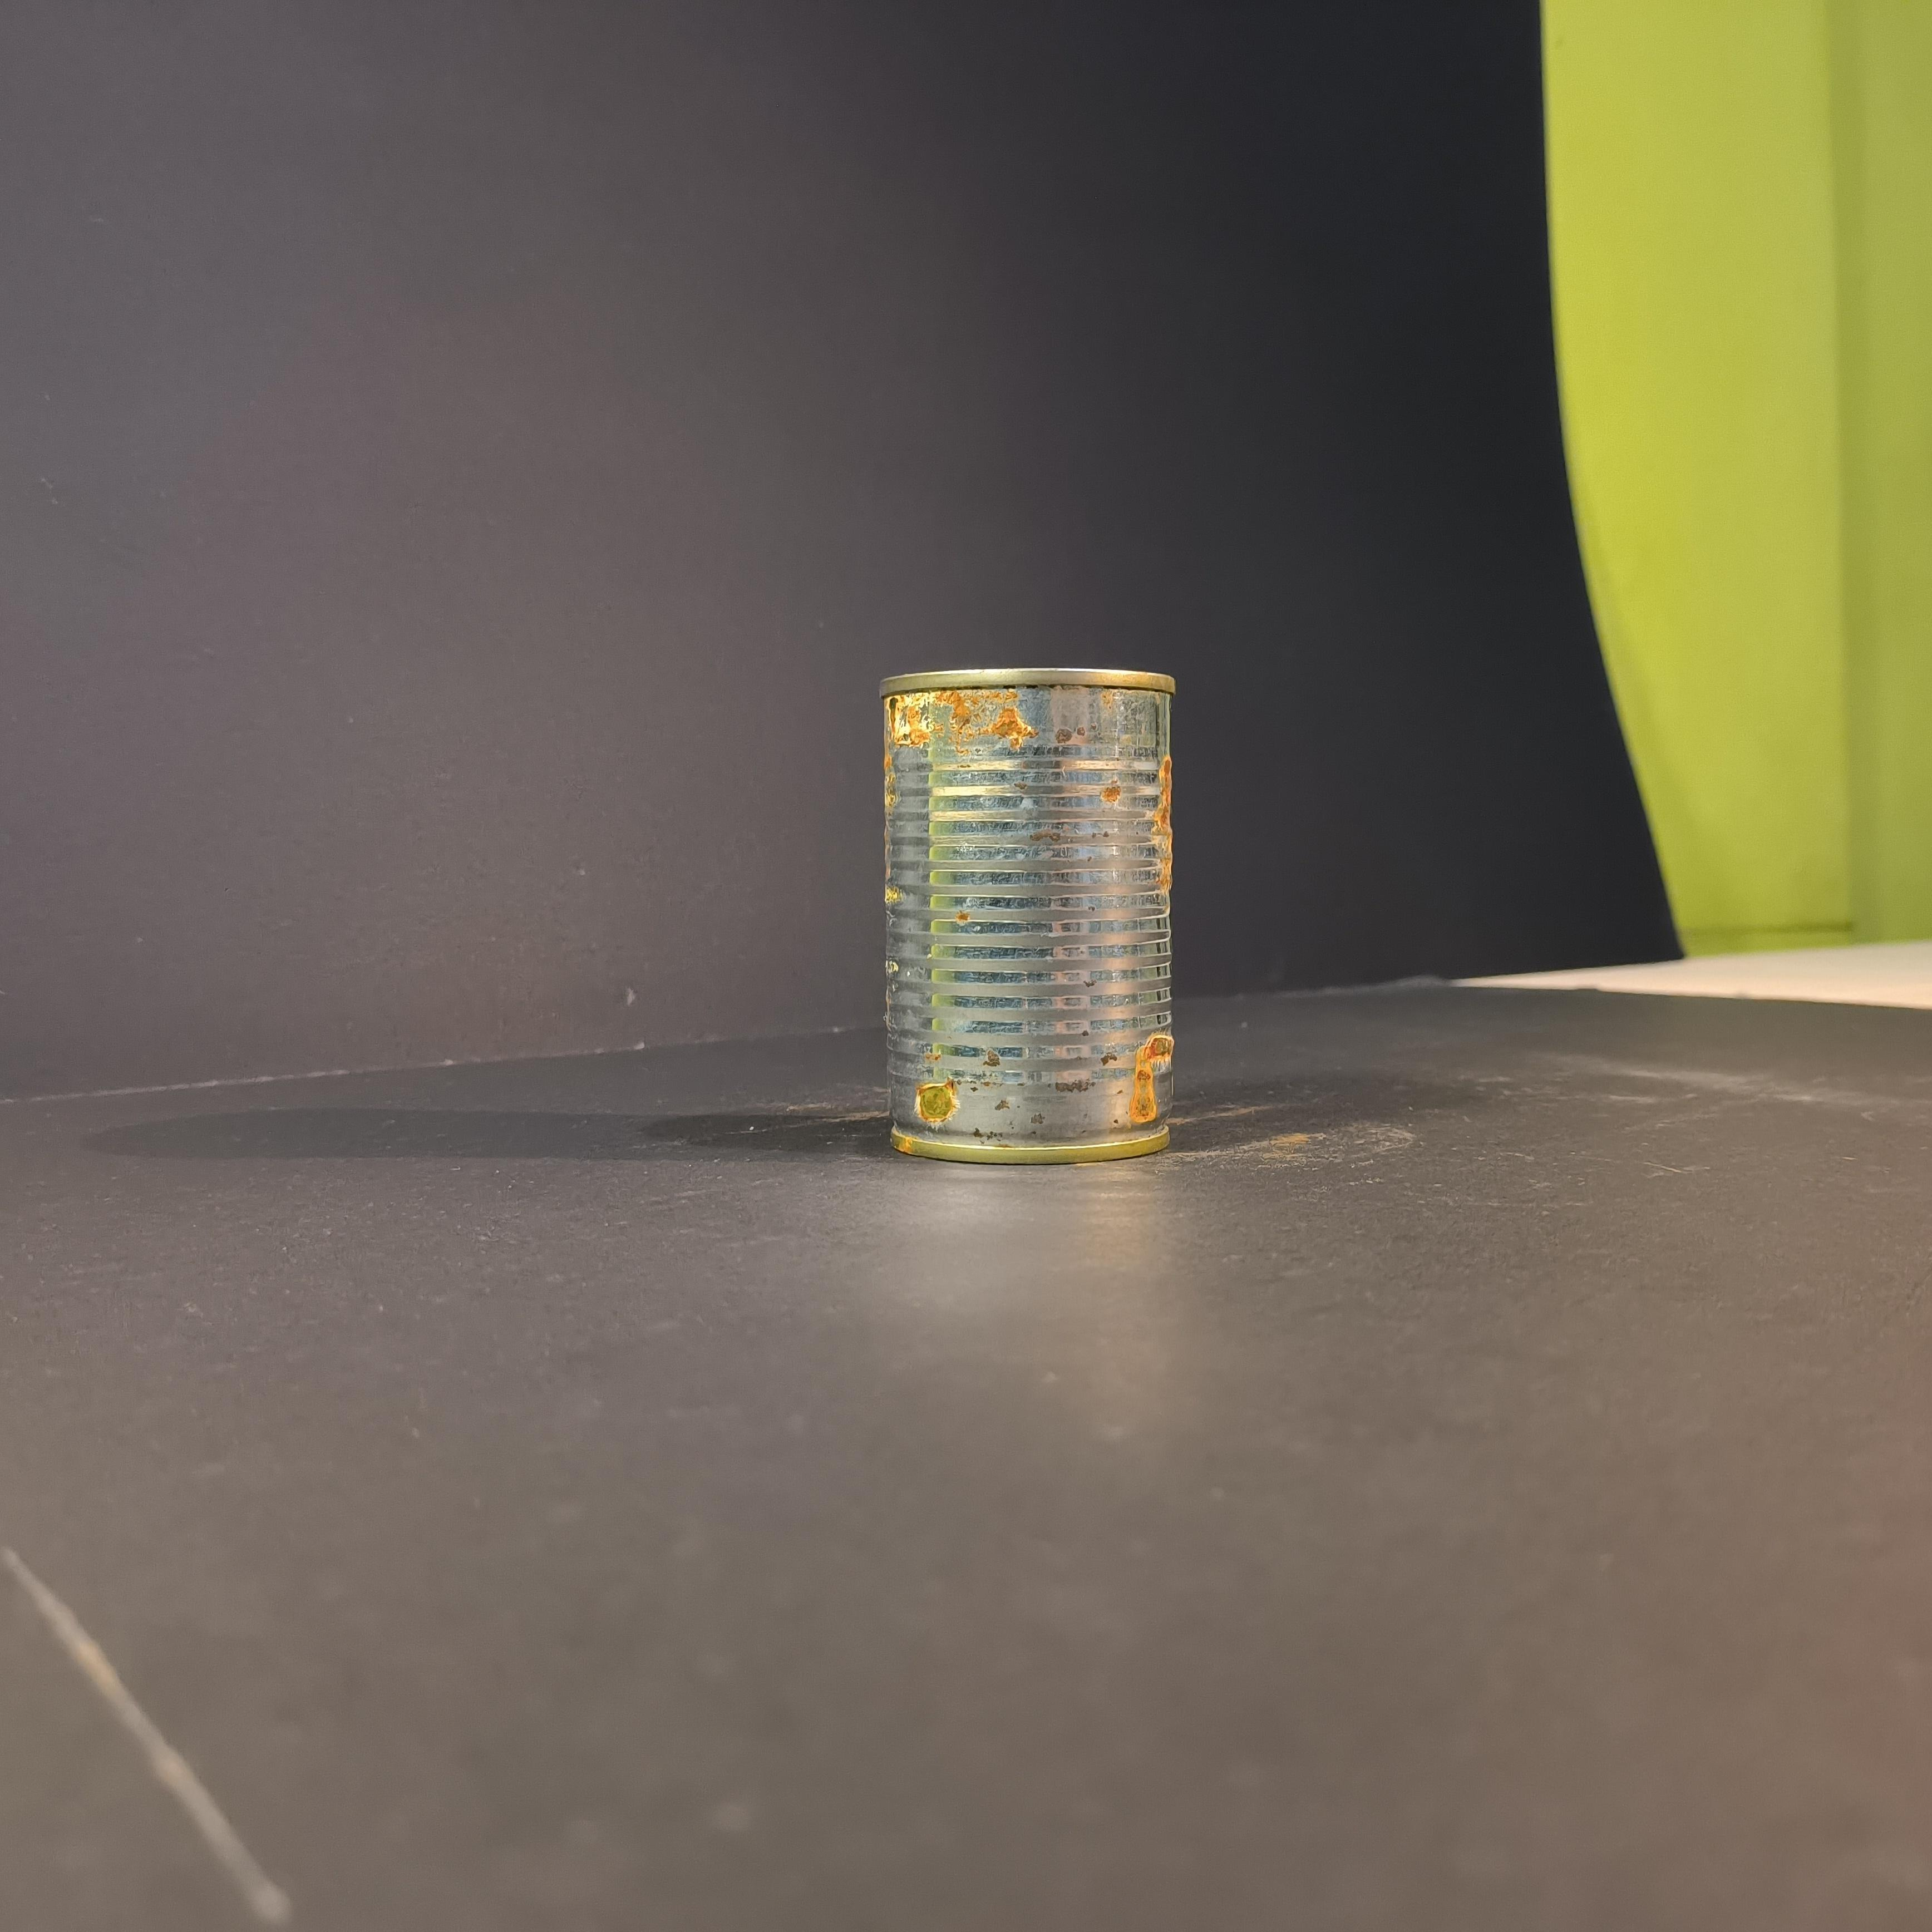Rusted: (860, 646, 1194, 1187)
